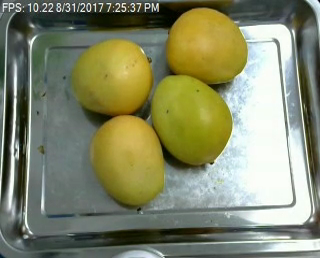Mango: (151, 74, 235, 167), (87, 113, 166, 206), (69, 36, 151, 119), (165, 8, 249, 81)
